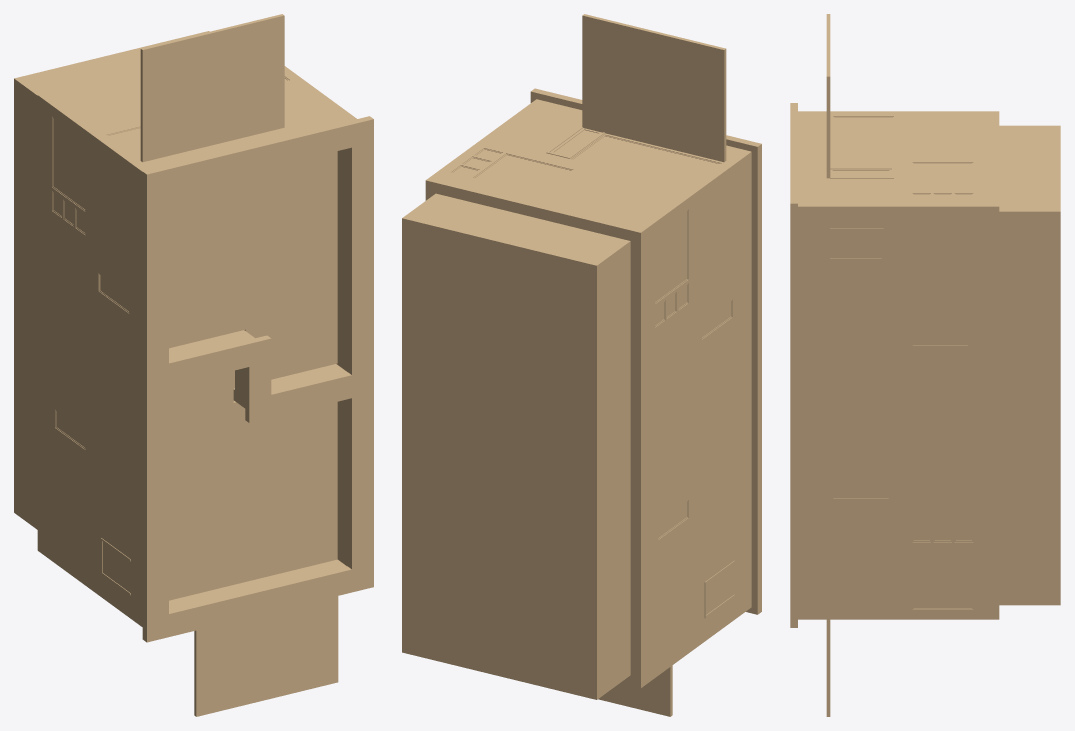
The model's file is duplex.glb.
The picture shows the model from 3 angles, left to right: view 1: azimuth 30°, elevation 25°; view 2: azimuth 150°, elevation 25°; view 3: azimuth 270°, elevation 25°; orthographic projection. The views are drawn at different scales.
Size of the model in its own units: 9.28 by 26.57 by 10.55.
